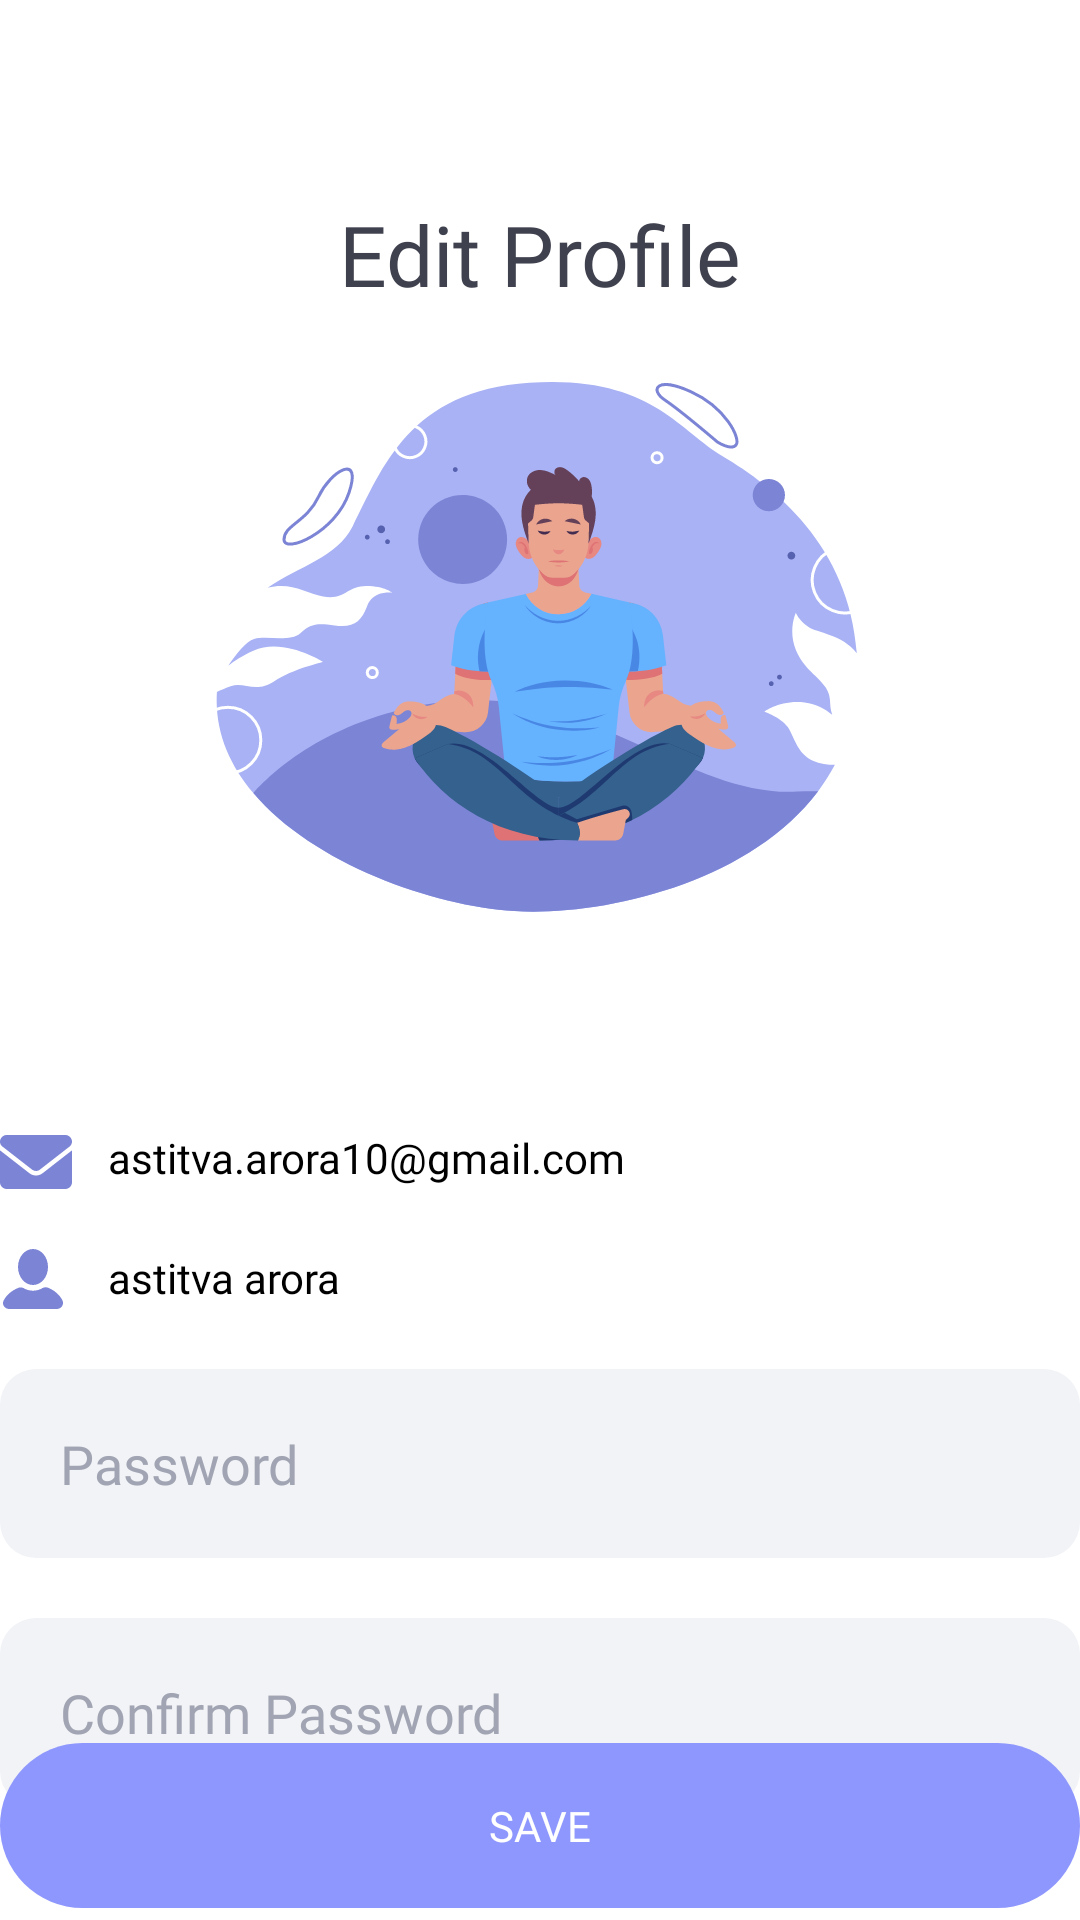

Named icons in this screenshot (1080w x 1920h) and their centers, point (x, y):
email: point (36, 1162)
